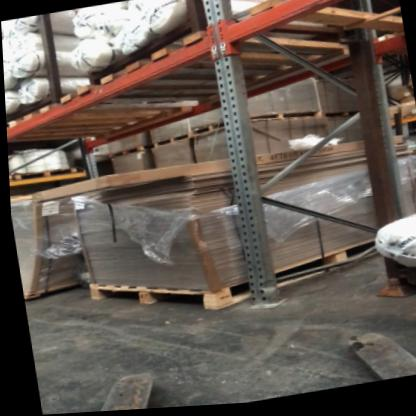vertical_damage: (237, 273, 287, 323)
